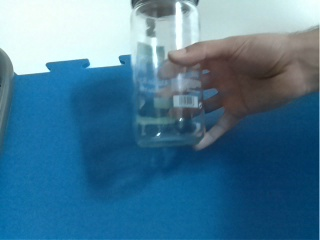pote cristal: (130, 1, 203, 147)
